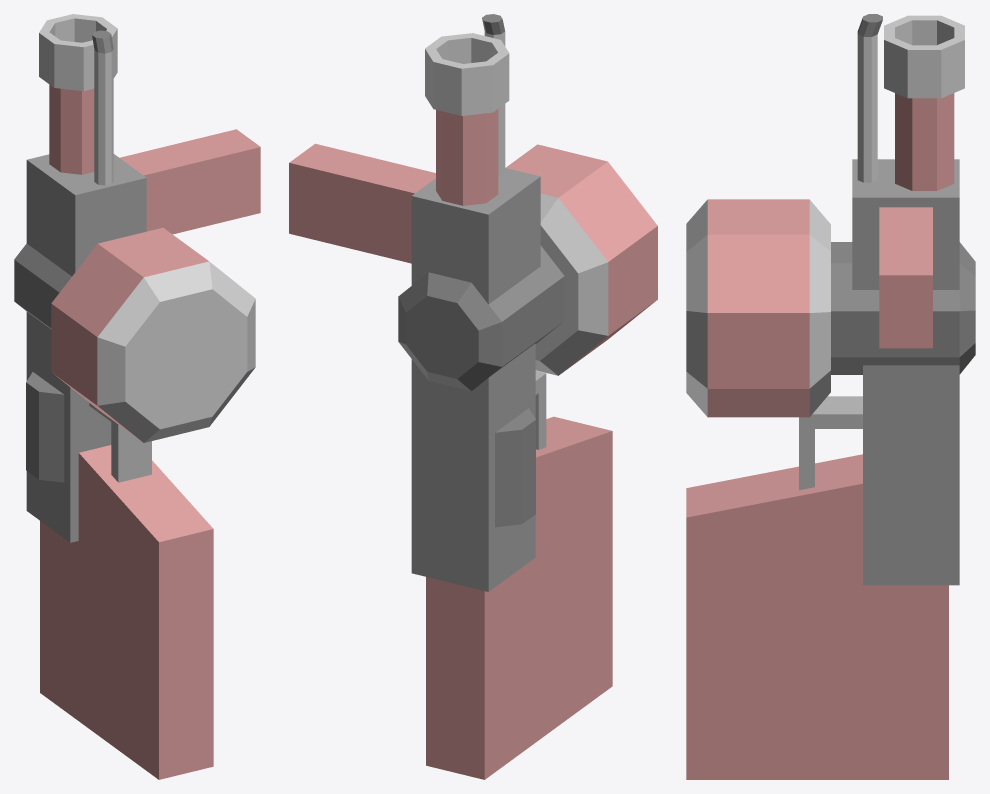
Rendered from flamethrowerhandle.fbx.
The picture shows the model from 3 angles, left to right: view 1: azimuth 30°, elevation 25°; view 2: azimuth 150°, elevation 25°; view 3: azimuth 270°, elevation 25°; orthographic projection. The views are drawn at different scales.
Parts seen in each view (by area): view 1: imagetostl_mesh128, imagetostl_mesh2, imagetostl_mesh134, imagetostl_mesh101, imagetostl_mesh7, imagetostl_mesh97, imagetostl_mesh73, imagetostl_mesh4, imagetostl_mesh25, imagetostl_mesh100, imagetostl_mesh151, imagetostl_mesh119 (+34 smaller); view 2: imagetostl_mesh128, imagetostl_mesh114, imagetostl_mesh136, imagetostl_mesh104, imagetostl_mesh98, imagetostl_mesh7, imagetostl_mesh97, imagetostl_mesh109, imagetostl_mesh4, imagetostl_mesh100, imagetostl_mesh95, imagetostl_mesh25 (+24 smaller); view 3: imagetostl_mesh133, imagetostl_mesh138, imagetostl_mesh28, imagetostl_mesh10, imagetostl_mesh76, imagetostl_mesh105, imagetostl_mesh100, imagetostl_mesh25, imagetostl_mesh44, imagetostl_mesh169, imagetostl_mesh151, imagetostl_mesh75 (+31 smaller).
Part boxes in pixels (x1,y1,x2,y2): imagetostl_mesh128: (40, 453, 158, 779); imagetostl_mesh2: (125, 289, 247, 429); imagetostl_mesh134: (159, 529, 213, 779); imagetostl_mesh101: (144, 147, 260, 234); imagetostl_mesh7: (51, 244, 143, 336); imagetostl_mesh97: (26, 160, 75, 276); imagetostl_mesh73: (75, 178, 146, 271); imagetostl_mesh4: (51, 304, 97, 405); imagetostl_mesh25: (98, 227, 208, 277); imagetostl_mesh100: (119, 129, 260, 175); imagetostl_mesh151: (152, 460, 213, 542); imagetostl_mesh119: (39, 392, 64, 482); imagetostl_mesh128: (484, 431, 612, 779); imagetostl_mesh114: (411, 359, 488, 591); imagetostl_mesh136: (426, 577, 484, 779); imagetostl_mesh104: (289, 163, 414, 263); imagetostl_mesh98: (411, 196, 488, 304); imagetostl_mesh7: (558, 162, 657, 261); imagetostl_mesh97: (488, 177, 540, 303); imagetostl_mesh109: (406, 296, 478, 378); imagetostl_mesh4: (608, 226, 657, 335); imagetostl_mesh100: (289, 143, 435, 193); imagetostl_mesh95: (502, 276, 564, 366); imagetostl_mesh25: (505, 144, 607, 197); imagetostl_mesh133: (686, 483, 948, 779); imagetostl_mesh138: (863, 365, 959, 585); imagetostl_mesh28: (707, 234, 809, 312); imagetostl_mesh10: (707, 313, 809, 388); imagetostl_mesh76: (831, 311, 959, 357); imagetostl_mesh105: (879, 275, 932, 348); imagetostl_mesh100: (879, 207, 932, 275); imagetostl_mesh25: (707, 199, 809, 234); imagetostl_mesh44: (707, 389, 809, 417); imagetostl_mesh169: (912, 98, 936, 190); imagetostl_mesh151: (686, 483, 861, 517); imagetostl_mesh75: (831, 263, 959, 311).
Size of what is drawn, in the model's own units: 3.44 by 9.23 by 3.24.
